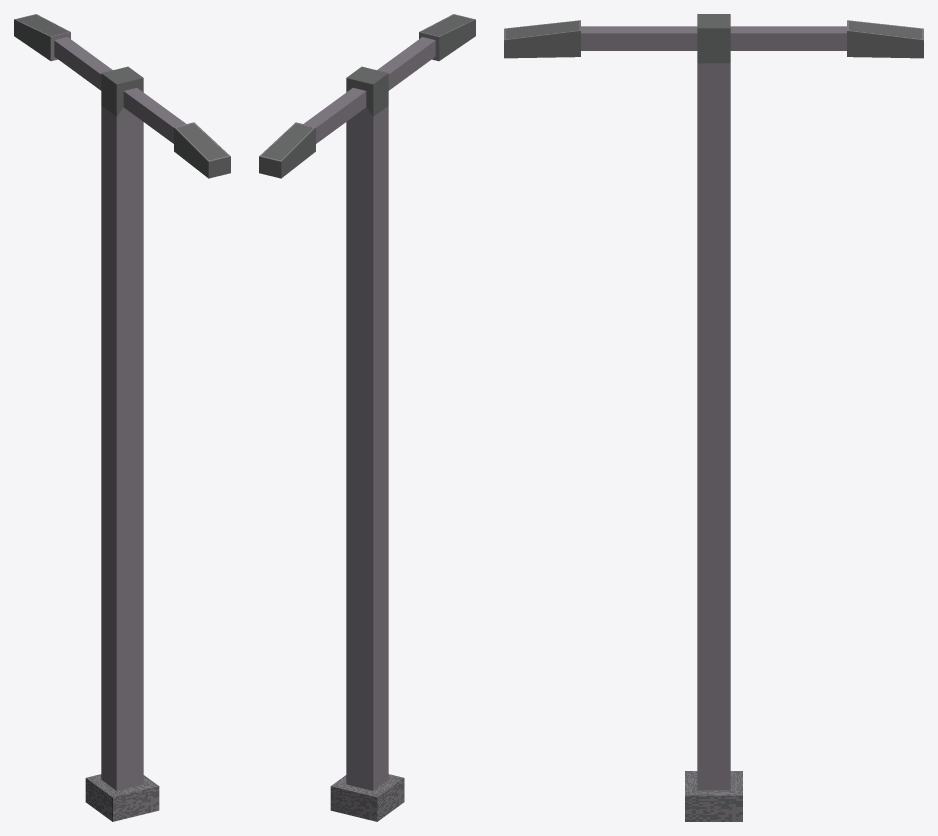
The model's file is StreetLight.glb.
The picture shows the model from 3 angles, left to right: view 1: azimuth 30°, elevation 25°; view 2: azimuth 150°, elevation 25°; view 3: azimuth 270°, elevation 25°; orthographic projection. The views are drawn at different scales.
Visible parts, largest first — view 1: Cube; view 2: Cube; view 3: Cube.
Boxes of the visible parts, bbox=[...] form: Cube: bbox=[14, 14, 230, 821]; Cube: bbox=[259, 14, 475, 821]; Cube: bbox=[504, 14, 923, 821].
Bounding box in the file's own units: 2 × 29.99 × 14.47.
1 material, 1 textured.
